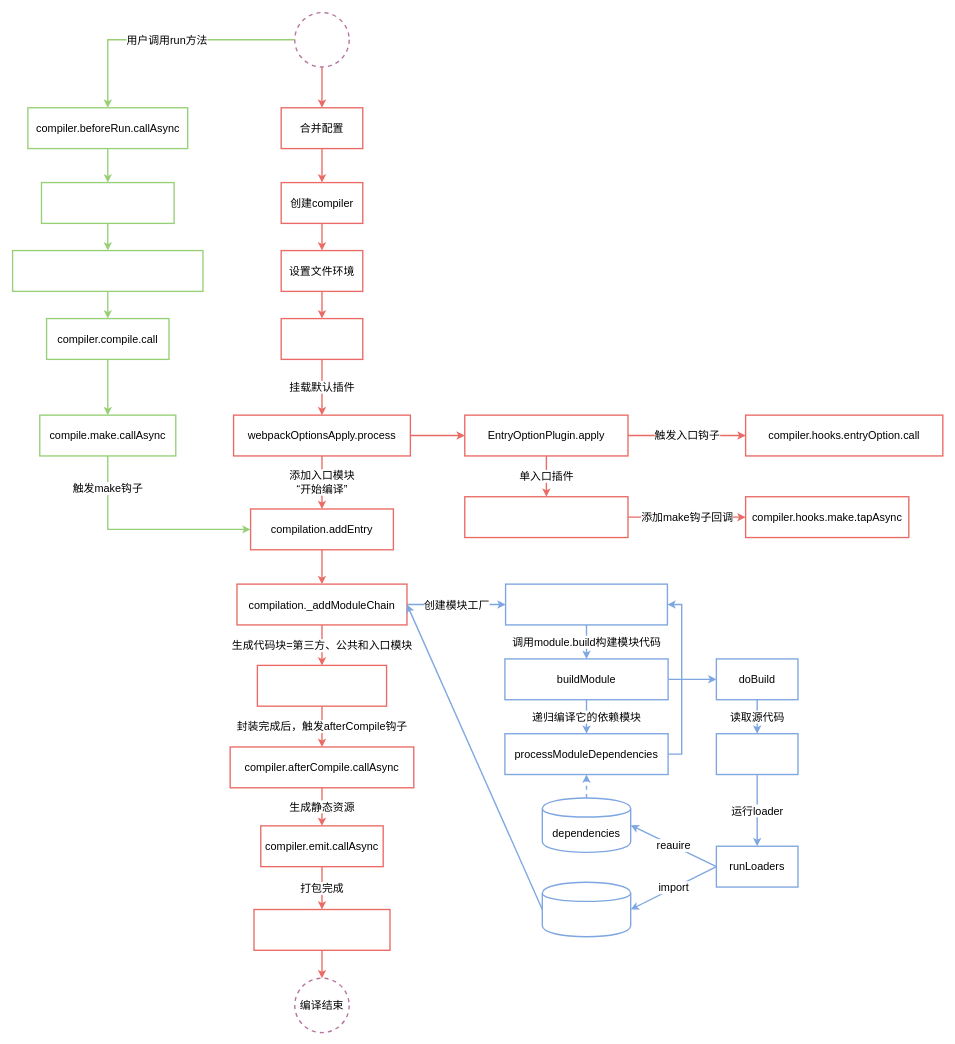
The diagram is 955 pixels wide and 1044 high, and some of its shapes have lost their labels. Here are the shapes that lost their labels. From the top down, the centre of each, then its label:
At point 322,39: "编译开始".
At point 107,203: "compiler.run.callAsync".
At point 107,271: "compiler.beforeCompile.callAsync".
At point 321,339: "配置插件".
At point 546,517: "SingleEntryPlugin.apply".
At point 586,604: "moduleFactory.create".
At point 321,685: "compilation.seal".
At point 756,754: "getSource".
At point 321,929: "compiler.done.callAsync".
At point 586,909: "blocks".
